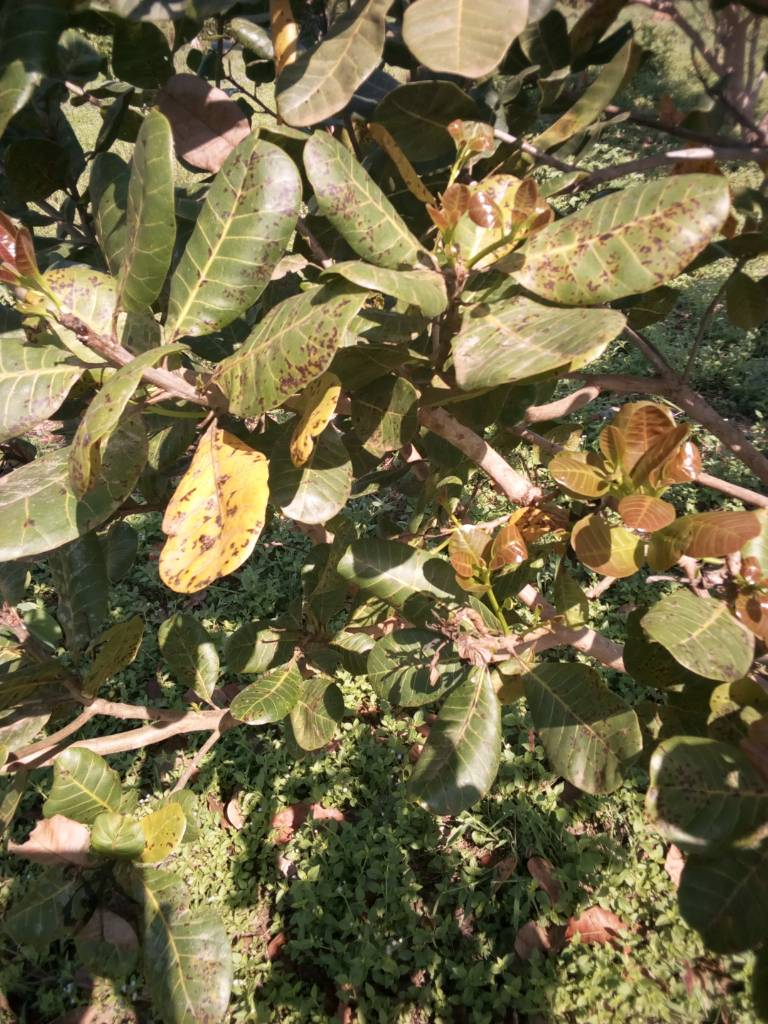Anthracnose: (507, 167, 730, 303), (158, 133, 304, 339), (211, 282, 361, 419), (288, 122, 429, 263), (154, 436, 268, 596), (522, 663, 646, 800), (649, 736, 765, 844)
